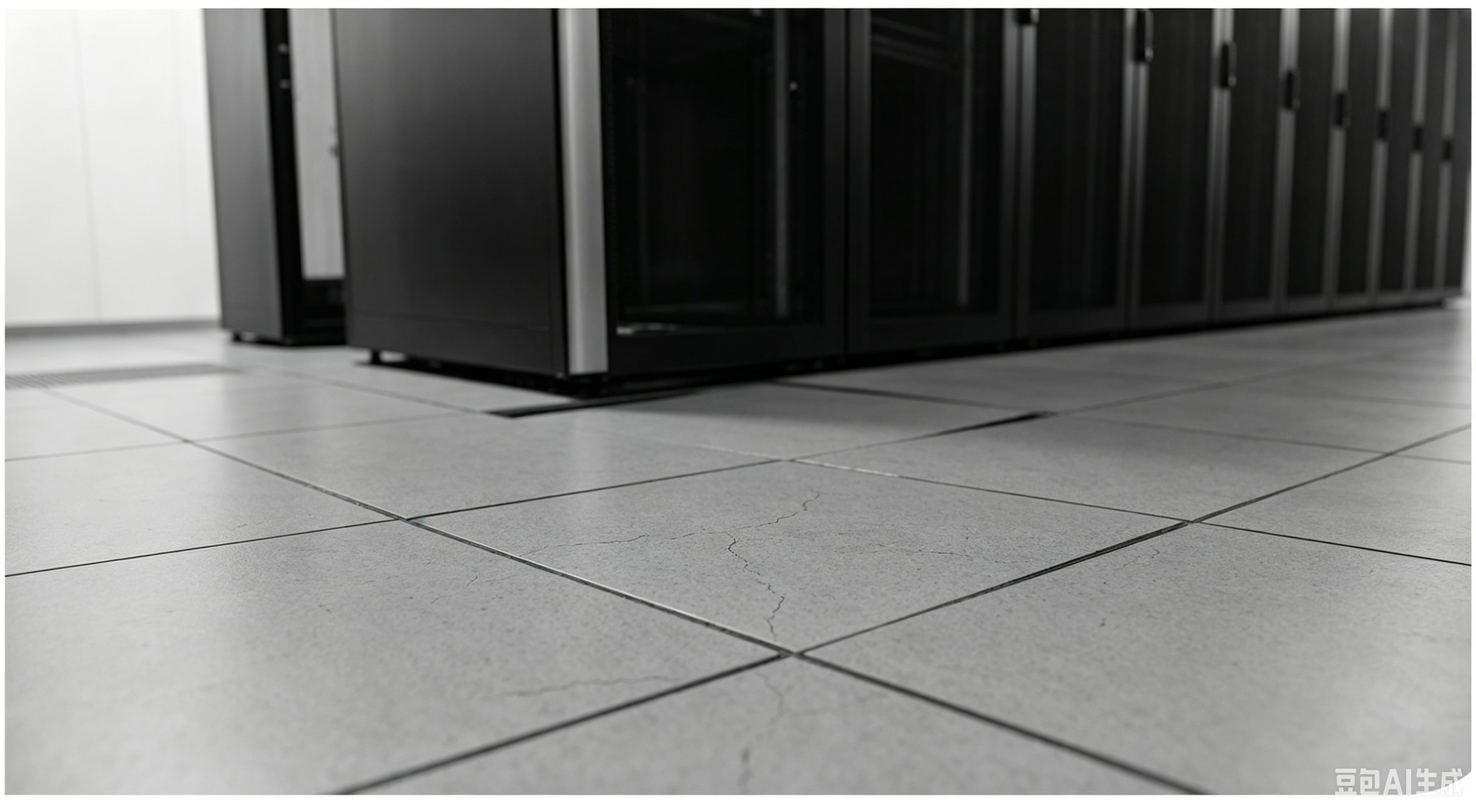floor_defect: (706, 533, 804, 662), (933, 368, 1068, 457), (726, 474, 874, 540), (519, 524, 705, 562)
